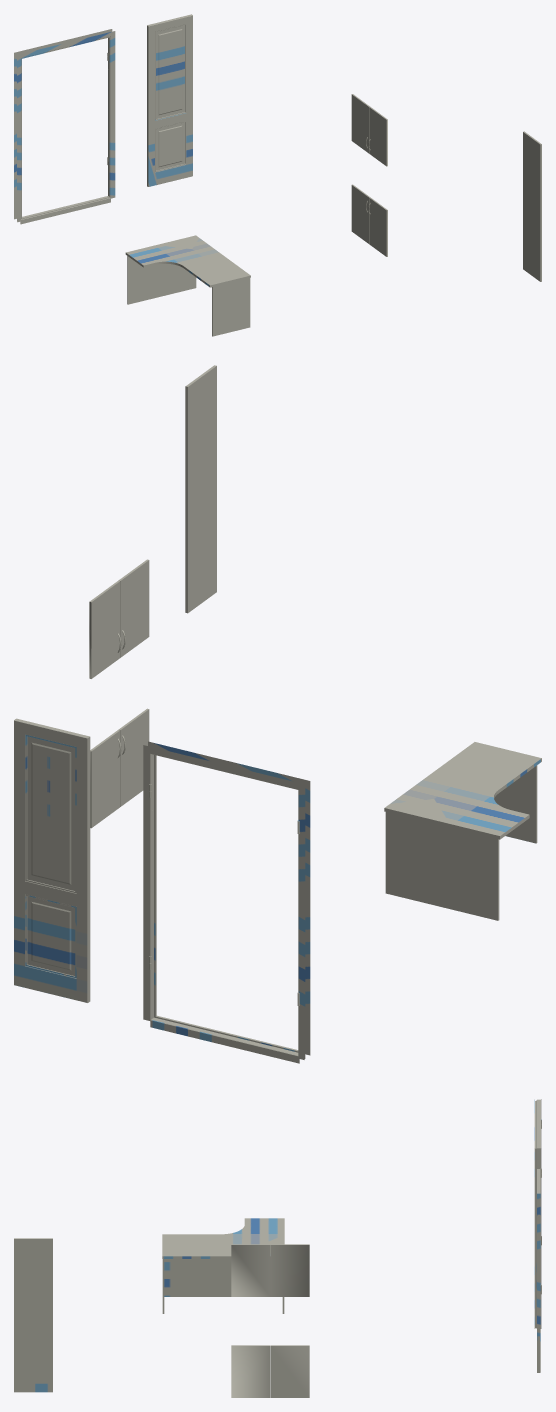
File: fix.fbx
The picture shows the model from 3 angles, top to bottom: view 1: azimuth 30°, elevation 25°; view 2: azimuth 150°, elevation 25°; view 3: azimuth 270°, elevation 25°; orthographic projection. The views are drawn at different scales.
Visible parts, largest first — view 1: SM_ClassDoorB_M4, SM_TeacherTableA_M4, SM_ClassDoorFrame_M4, SM_ShelfADoor_M3.002, SM_ShelfDoor_M3.004, SM_ShelfDoor_M3.002, SM_ShelfDoor_M3.001, SM_ShelfDoor_M3.003; view 2: SM_ClassDoorB_M4, SM_TeacherTableA_M4, SM_ClassDoorFrame_M4, SM_ShelfADoor_M3.002, SM_ShelfDoor_M3.001, SM_ShelfDoor_M3.003, SM_ShelfDoor_M3.002, SM_ShelfDoor_M3.004; view 3: SM_ShelfADoor_M3.002, SM_TeacherTableA_M4, SM_ShelfDoor_M3.001, SM_ShelfDoor_M3.002, SM_ShelfDoor_M3.003, SM_ShelfDoor_M3.004, SM_ClassDoorFrame_M4, SM_ClassDoorB_M4.
Boxes of the visible parts, x1,y1,x2,y2 form: SM_ClassDoorB_M4: [147, 14, 192, 186]; SM_TeacherTableA_M4: [125, 235, 250, 336]; SM_ClassDoorFrame_M4: [14, 29, 115, 224]; SM_ShelfADoor_M3.002: [523, 131, 541, 281]; SM_ShelfDoor_M3.004: [368, 197, 387, 256]; SM_ShelfDoor_M3.002: [368, 107, 387, 166]; SM_ShelfDoor_M3.001: [351, 94, 369, 153]; SM_ShelfDoor_M3.003: [351, 184, 369, 243]; SM_ClassDoorB_M4: [14, 718, 90, 1002]; SM_TeacherTableA_M4: [384, 742, 541, 920]; SM_ClassDoorFrame_M4: [143, 741, 310, 1063]; SM_ShelfADoor_M3.002: [185, 365, 216, 613]; SM_ShelfDoor_M3.001: [89, 580, 121, 678]; SM_ShelfDoor_M3.003: [90, 730, 121, 828]; SM_ShelfDoor_M3.002: [118, 559, 149, 657]; SM_ShelfDoor_M3.004: [118, 708, 149, 806]; SM_ShelfADoor_M3.002: [14, 1238, 52, 1392]; SM_TeacherTableA_M4: [162, 1218, 284, 1313]; SM_ShelfDoor_M3.001: [270, 1244, 309, 1296]; SM_ShelfDoor_M3.002: [231, 1244, 270, 1296]; SM_ShelfDoor_M3.003: [270, 1345, 309, 1397]; SM_ShelfDoor_M3.004: [231, 1345, 270, 1397]; SM_ClassDoorFrame_M4: [534, 1099, 541, 1328]; SM_ClassDoorB_M4: [537, 1169, 540, 1372].
Bounding box in the file's own units: 434 × 254 × 603.
